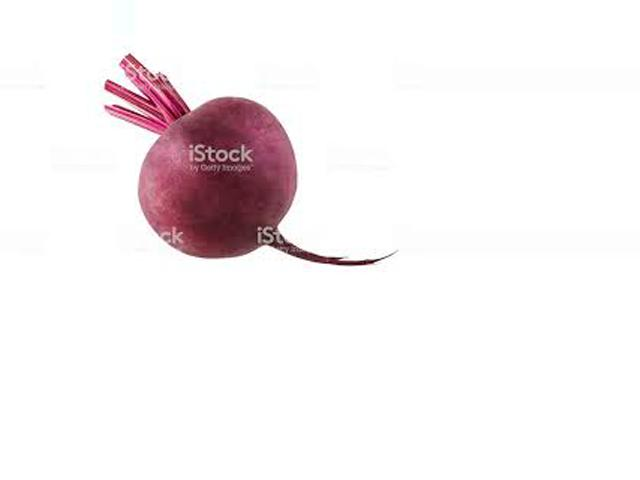beet: (103, 54, 397, 264)
